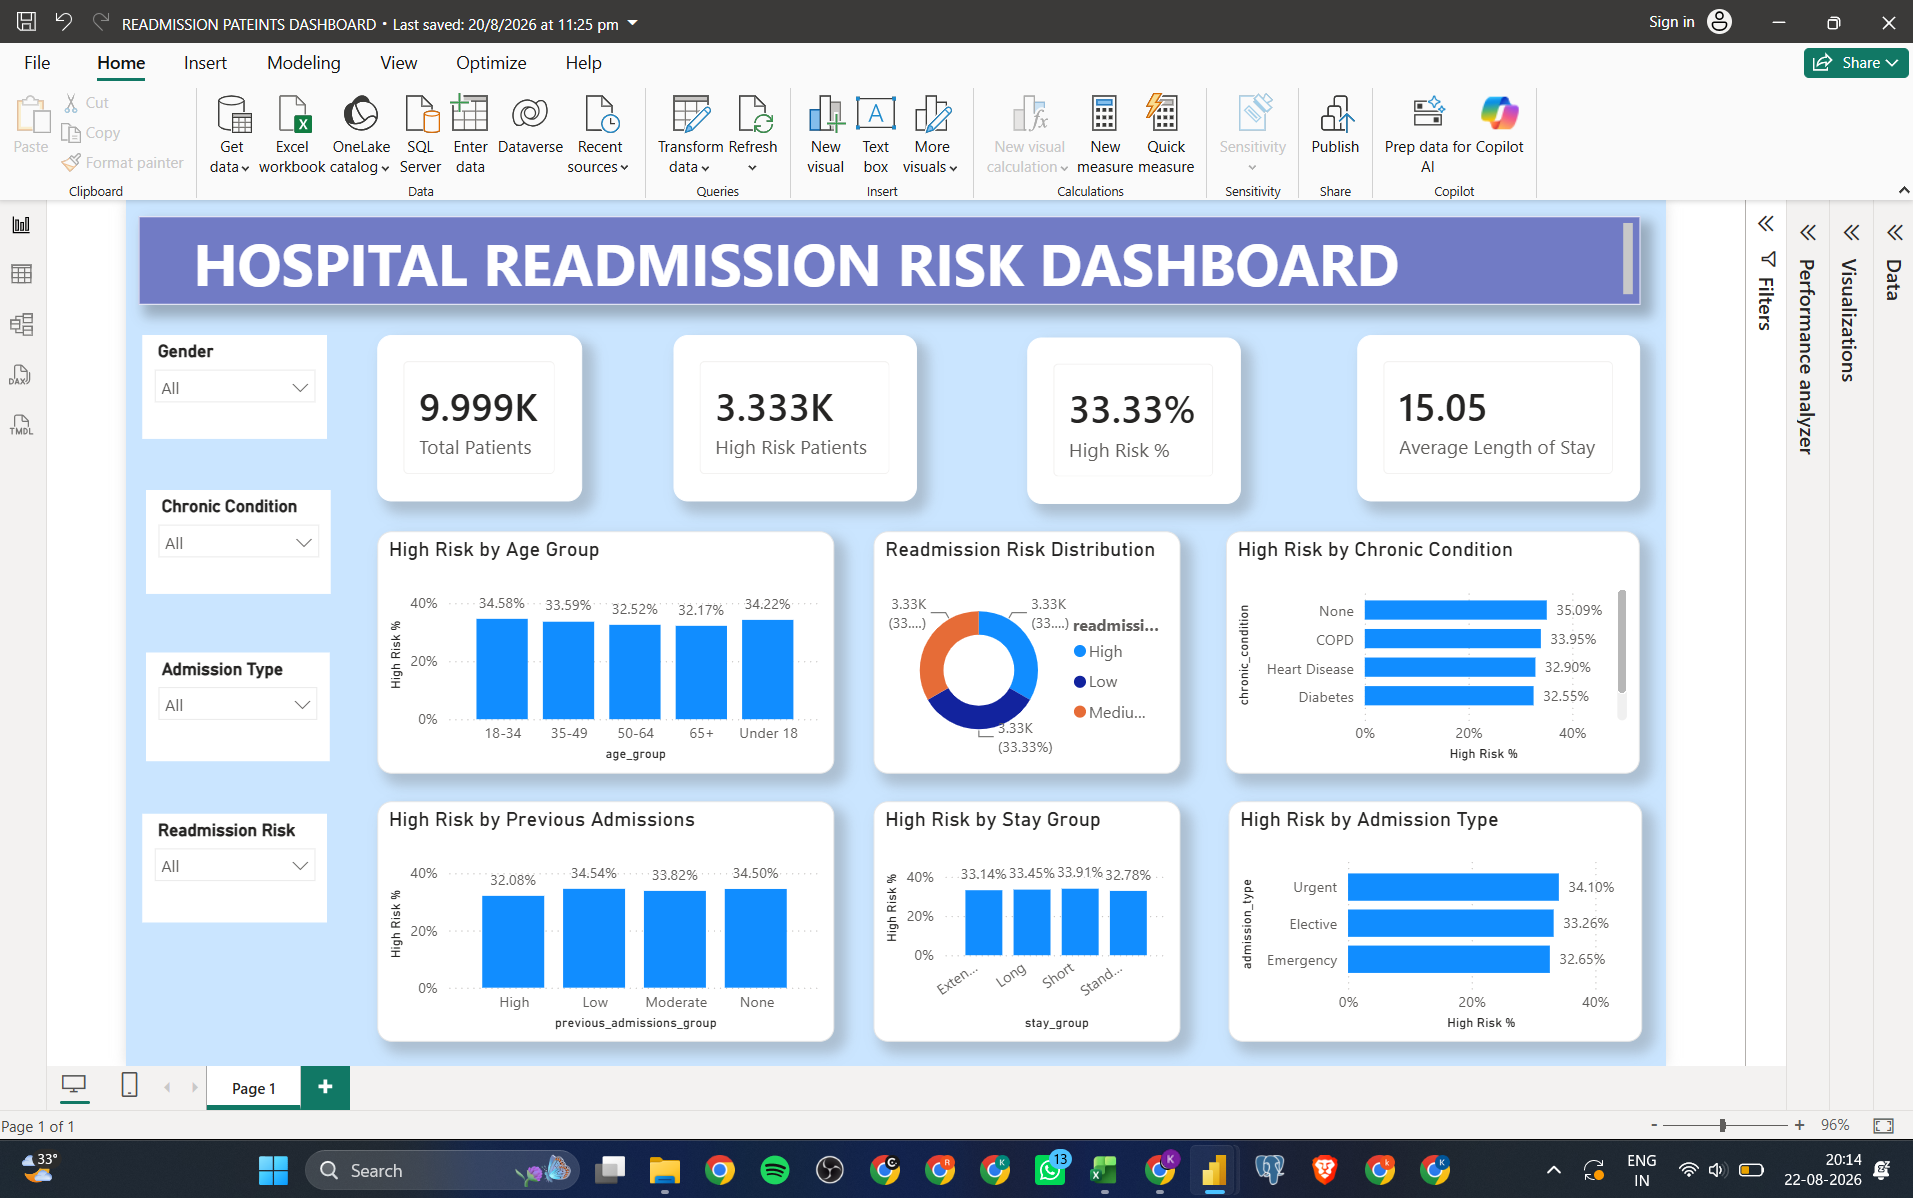

What the dashboard file says about the page in this screenshot:
{"tool":"powerbi","page":{"name":"Page 1","canvas":[1280,720],"ordinal":0},"visuals":[{"type":"textbox","box":[10,13.8,1248.8,73.8],"z":0},{"type":"slicer","fields":{"Values":["Patient_Data.gender"]},"box":[13.8,112.5,153.8,86.2],"z":1000},{"type":"slicer","fields":{"Values":["Patient_Data.chronic_condition"]},"box":[16.2,241.2,153.8,86.2],"z":2000},{"type":"slicer","fields":{"Values":["Patient_Data.admission_type"]},"box":[16.2,376.2,152.5,90],"z":3000},{"type":"slicer","fields":{"Values":["Patient_Data.readmission_risk"]},"box":[13.8,510,153.8,90],"z":4000},{"type":"cardVisual","fields":{"Data":["Patient_Data.Total Patients"]},"box":[208.8,112.5,170,138.8],"z":5000},{"type":"cardVisual","fields":{"Data":["Patient_Data.High Risk Patients"]},"box":[455,112.5,202.5,138.8],"z":6000},{"type":"cardVisual","fields":{"Data":["Patient_Data.High Risk %"]},"box":[749.3,114.1,177.5,138.8],"z":7000},{"type":"cardVisual","fields":{"Data":["Patient_Data.Average Length of Stay"]},"box":[1023.8,112.5,235,138.8],"z":8000},{"type":"donutChart","title":"Readmission Risk Distribution","fields":{"Y":["CountNonNull(Patient_Data.patient_id)"],"Category":["Patient_Data.readmission_risk"]},"box":[621.2,275,255,201.2],"z":9000},{"type":"columnChart","title":"High Risk by Age Group","fields":{"Y":["Patient_Data.High Risk %"],"Category":["Patient_Data.age_group"]},"box":[208.8,275,380,201.2],"z":10000},{"type":"clusteredBarChart","title":"High Risk by Chronic Condition","fields":{"Category":["Patient_Data.chronic_condition"],"Y":["Patient_Data.High Risk %"]},"box":[915,275,343.8,201.2],"z":11000},{"type":"clusteredColumnChart","title":"High Risk by Previous Admissions ","fields":{"Category":["Patient_Data.previous_admissions_group"],"Y":["Patient_Data.High Risk %"]},"box":[208.8,500,380,200],"z":12000},{"type":"clusteredColumnChart","title":"High Risk by Stay Group","fields":{"Category":["Patient_Data.stay_group"],"Y":["Patient_Data.High Risk %"]},"box":[621.2,500,255,200],"z":13000},{"type":"clusteredBarChart","title":"High Risk by Admission Type","fields":{"Y":["Patient_Data.High Risk %"],"Category":["Patient_Data.admission_type"]},"box":[916.2,499.5,343.8,200],"z":14000}]}

Visuals, with their boxes on the page's 1280x720 design canvas (x1, y1, x2, y2). These are canvas units, not pixel positions in the 1913x1198 screenshot, which may show the page scaled, cropped or inside an application window:
textbox: 10,14,1259,88
slicer - Patient_Data.gender: 14,112,168,199
slicer - Patient_Data.chronic_condition: 16,241,170,327
slicer - Patient_Data.admission_type: 16,376,169,466
slicer - Patient_Data.readmission_risk: 14,510,168,600
cardVisual - Patient_Data.Total Patients: 209,112,379,251
cardVisual - Patient_Data.High Risk Patients: 455,112,658,251
cardVisual - Patient_Data.High Risk %: 749,114,927,253
cardVisual - Patient_Data.Average Length of Stay: 1024,112,1259,251
"Readmission Risk Distribution" donutChart: 621,275,876,476
"High Risk by Age Group" columnChart: 209,275,589,476
"High Risk by Chronic Condition" clusteredBarChart: 915,275,1259,476
"High Risk by Previous Admissions " clusteredColumnChart: 209,500,589,700
"High Risk by Stay Group" clusteredColumnChart: 621,500,876,700
"High Risk by Admission Type" clusteredBarChart: 916,500,1260,700
